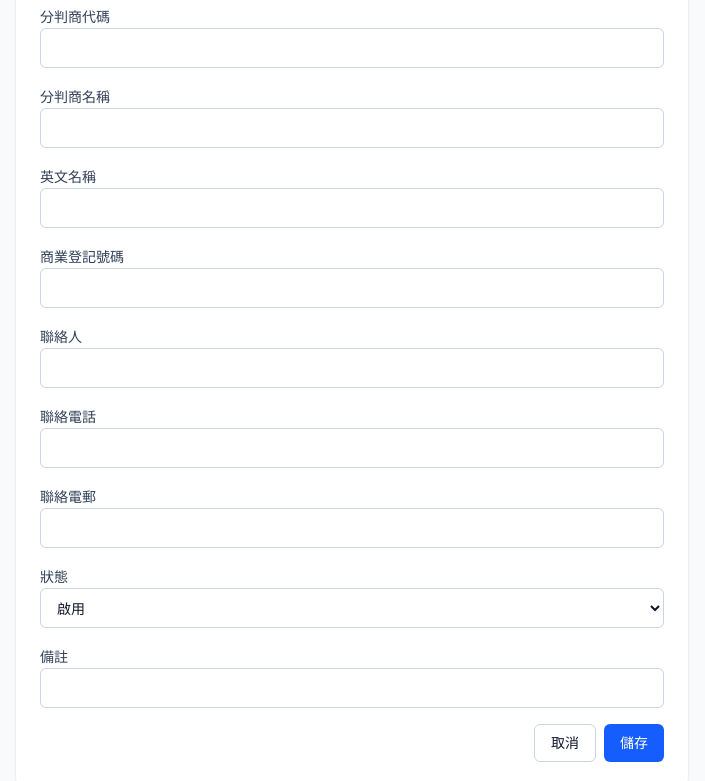
SubcontractorFormPage › blocks create submit when required fields are empty
The image size is (705, 781).
(page scrolled)
Click the button "儲存" at (634, 743), box [604, 724, 664, 762]
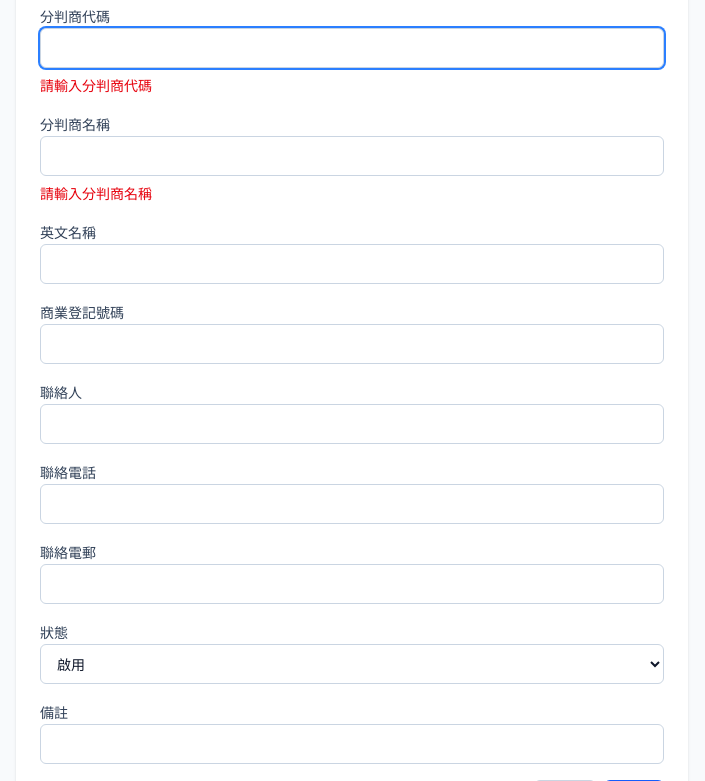
Check: the text "請輸入分判商代碼" is shown, box [40, 76, 152, 95]
Check: the text "請輸入分判商名稱" is shown, box [40, 184, 152, 203]
